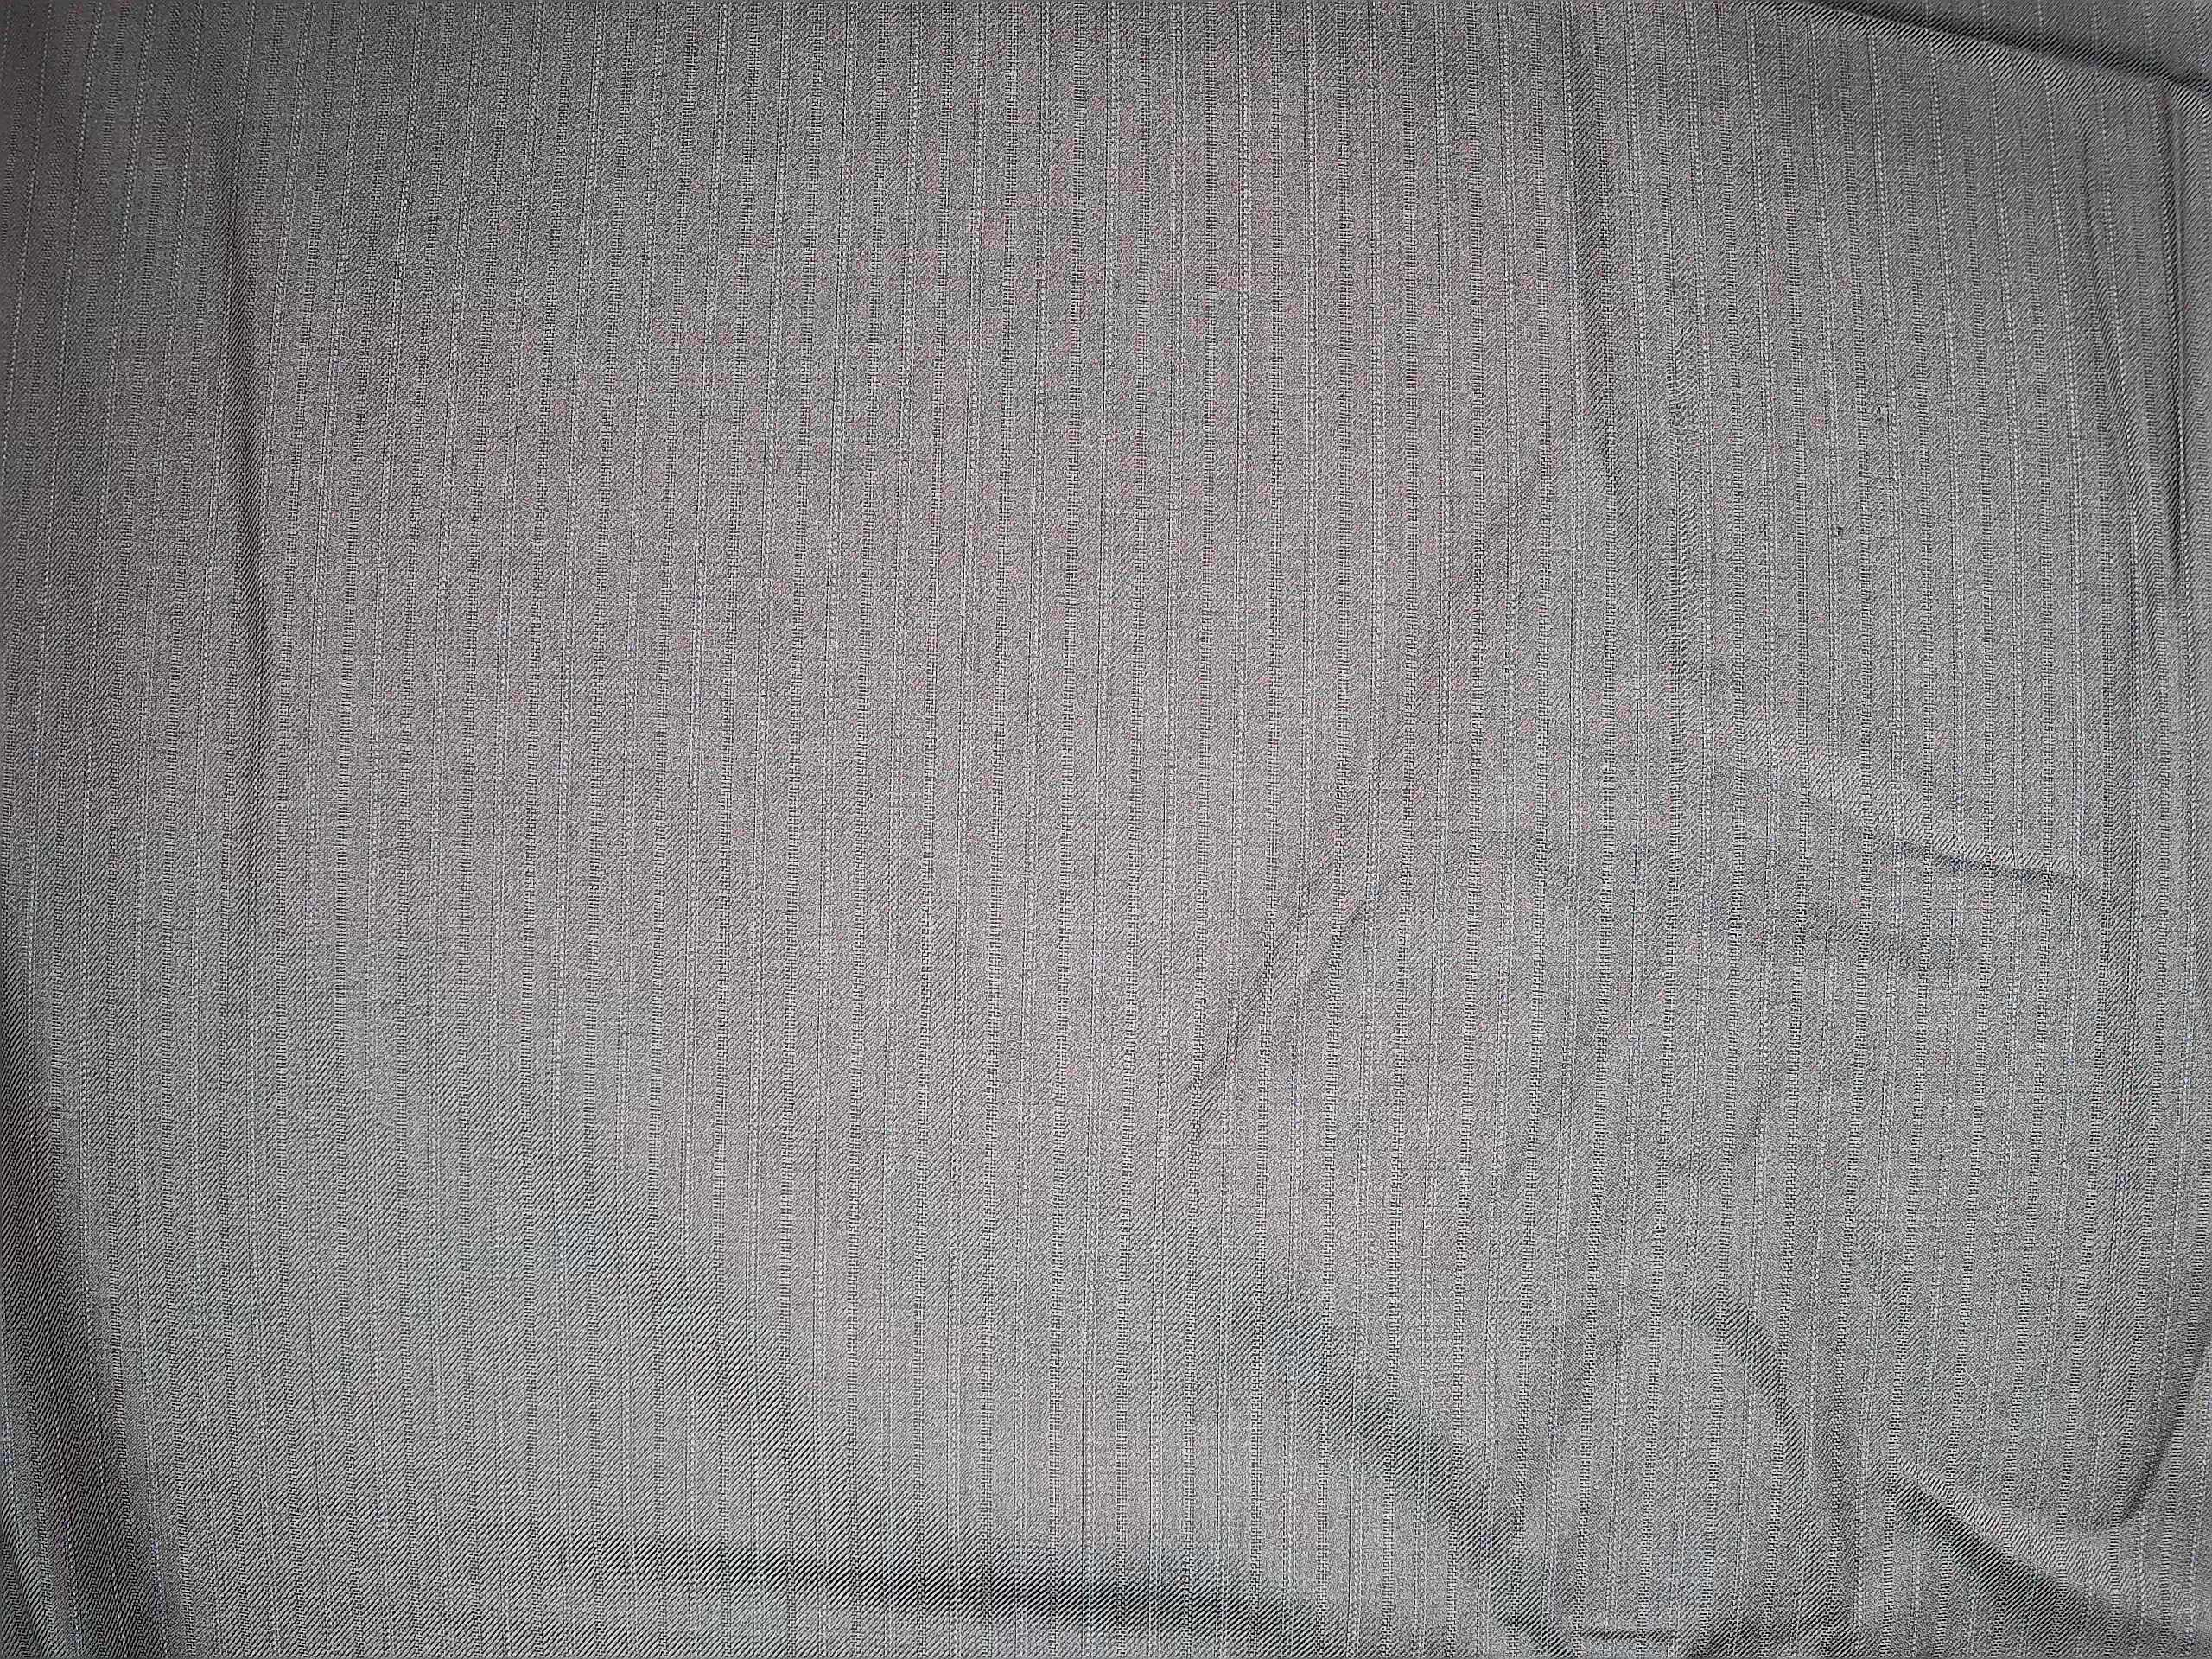hanging-warp: (1653, 246, 1700, 554)
